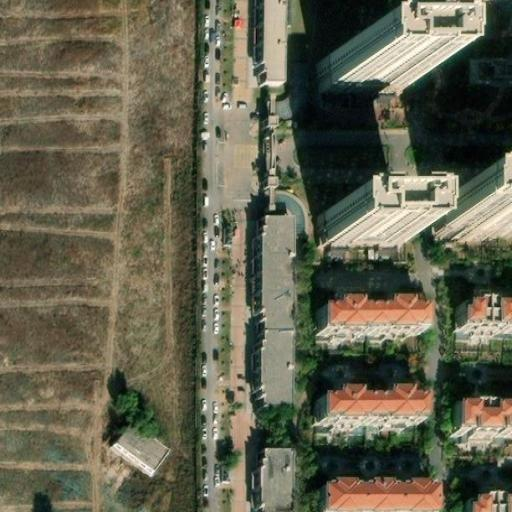building: (264, 220, 291, 408), (321, 392, 423, 424), (324, 49, 407, 87), (114, 420, 173, 473), (321, 301, 424, 331), (438, 197, 512, 236), (321, 488, 434, 512), (331, 210, 415, 242), (455, 406, 512, 438), (262, 450, 290, 512), (461, 304, 512, 333), (266, 0, 283, 79), (466, 502, 512, 512)
